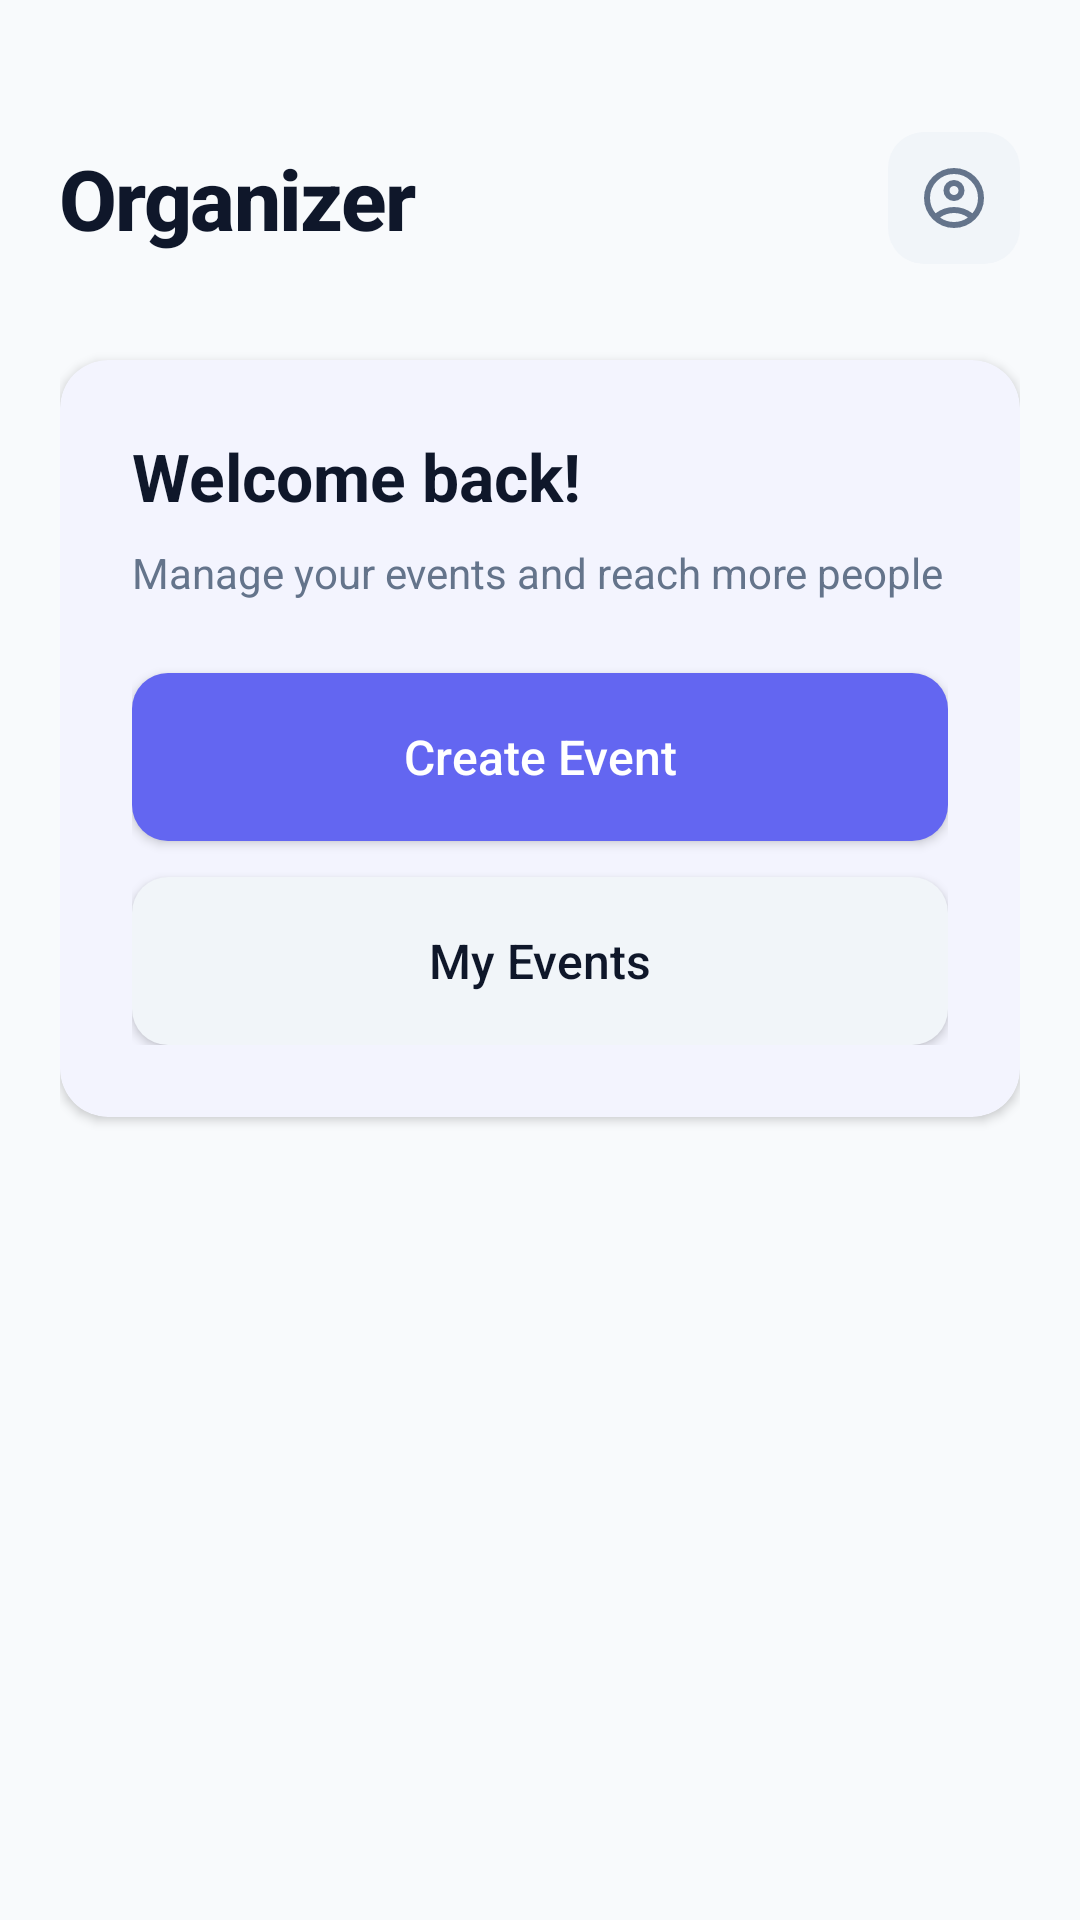

Named icons in this screenshot (1080x1920) and their centers, point (x, y):
Account: point (954, 198)
